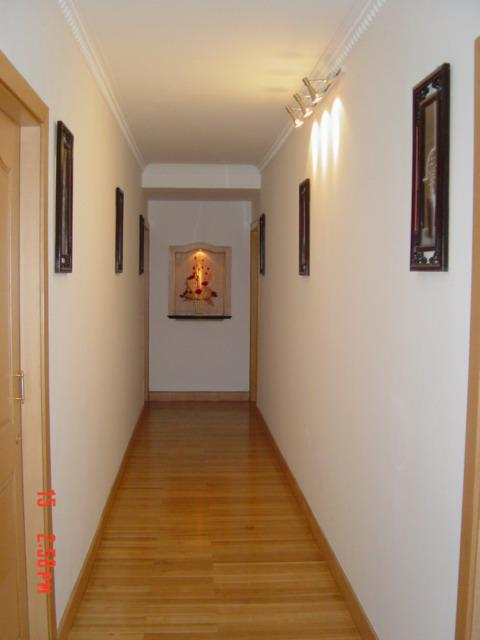Puerta: (1, 122, 35, 635)
